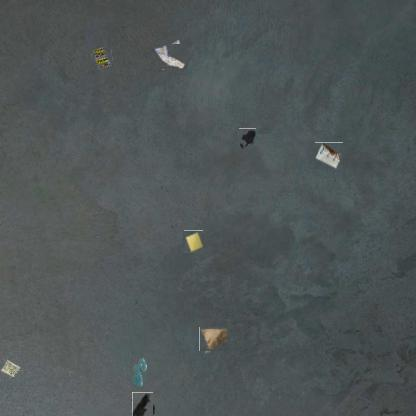dirty: (156, 42, 186, 70), (315, 142, 343, 169), (201, 326, 229, 353), (131, 392, 153, 416), (91, 46, 113, 68), (184, 230, 204, 253), (0, 356, 20, 377)
liquid: (129, 357, 147, 387), (238, 128, 256, 149)
